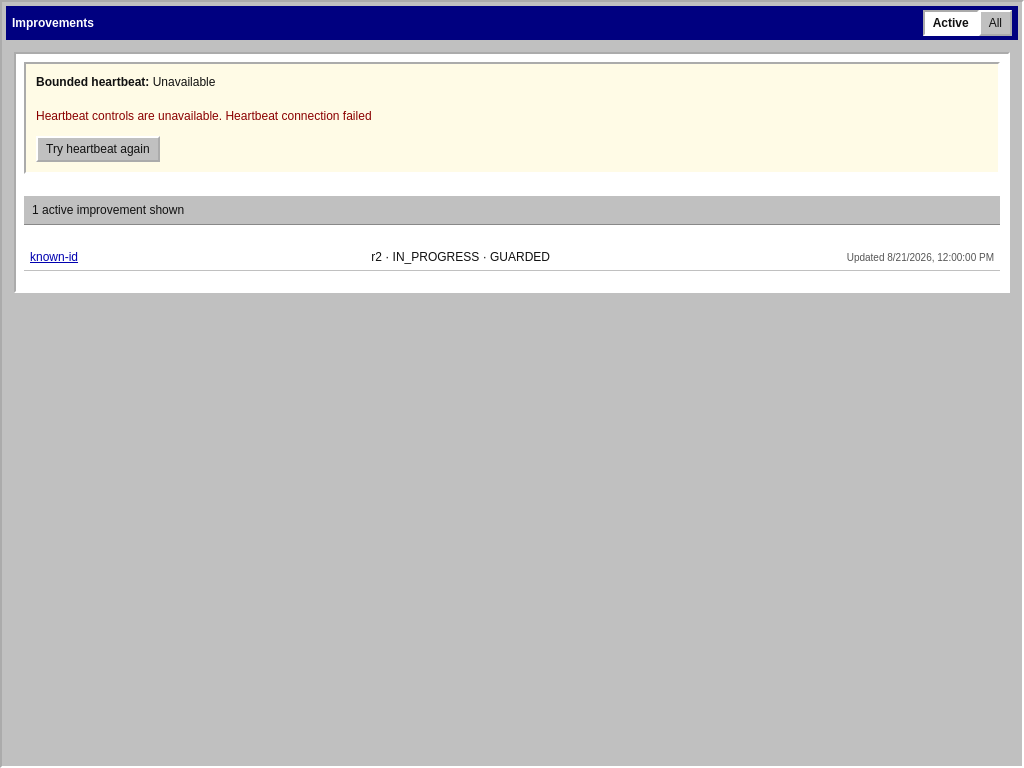
Test: Improvements interface › reports an unavailable heartbeat and can reload it
Click the button "Try heartbeat again" at (98, 149), box top-left (36, 136), bottom-right (160, 162)
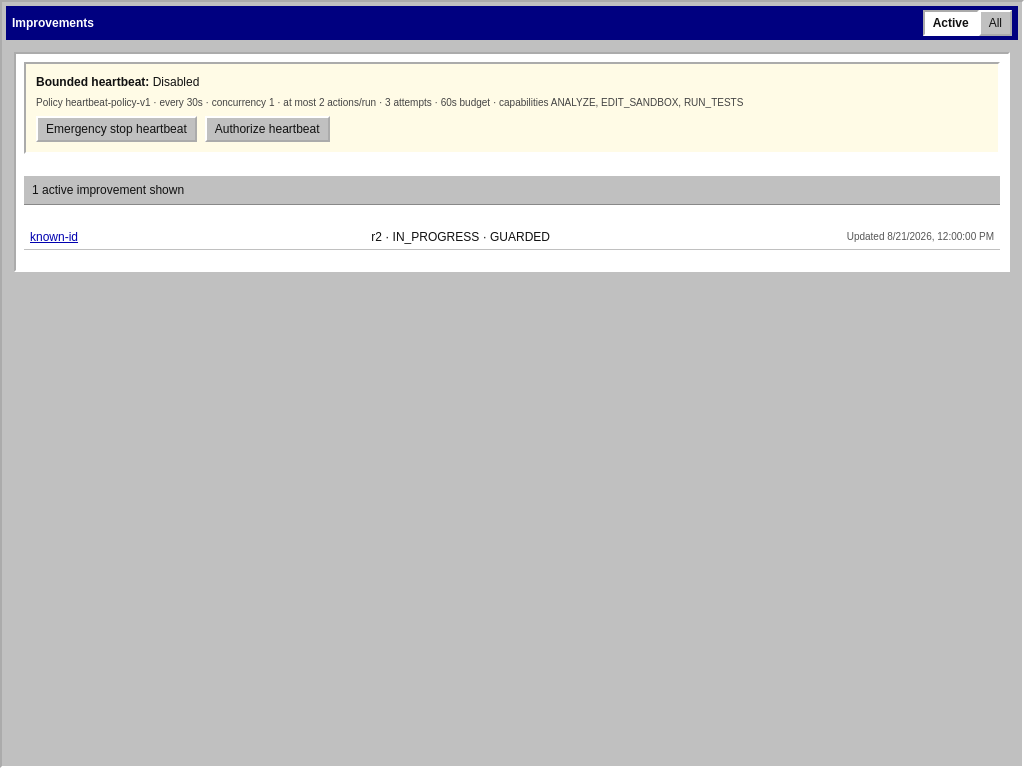
Check: the button "Emergency stop heartbeat" is shown, box top-left (36, 116), bottom-right (197, 142)
Check: the text "Heartbeat controls are unavailable" is gone
